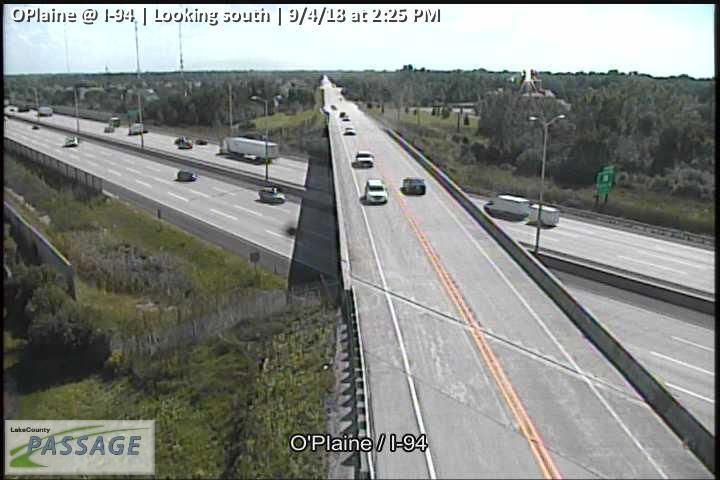SUV: (365, 178, 388, 204), (403, 178, 425, 194), (355, 151, 374, 168)
Sedan: (346, 126, 354, 134)
Truck: (485, 194, 559, 225), (221, 135, 280, 162)
